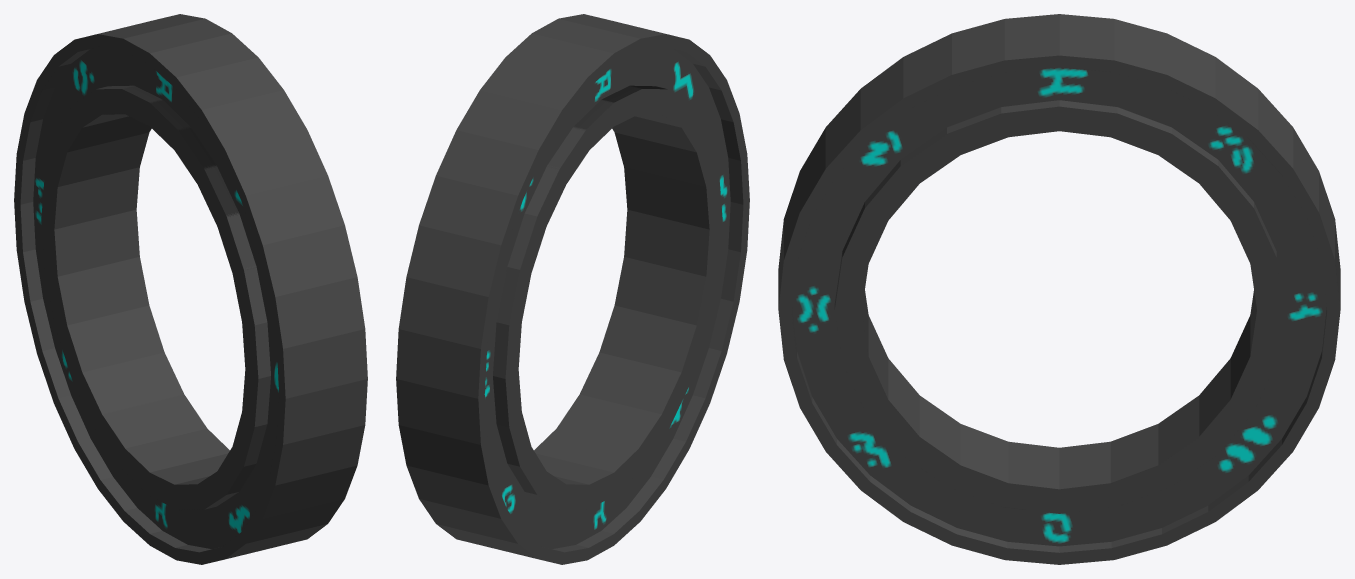
The model's file is Portal.fbx.
The picture shows the model from 3 angles, left to right: view 1: azimuth 30°, elevation 25°; view 2: azimuth 150°, elevation 25°; view 3: azimuth 270°, elevation 25°; orthographic projection. The views are drawn at different scales.
Visible parts, largest first — view 1: Cube; view 2: Cube; view 3: Cube.
Part boxes in pixels (x1,y1,x2,y2): Cube: (14,14,367,564); Cube: (396,14,749,564); Cube: (778,14,1340,564).
Bounding box in the file's own units: 89.56 × 512 × 512.
Materials: 1 (1 with a texture image).
